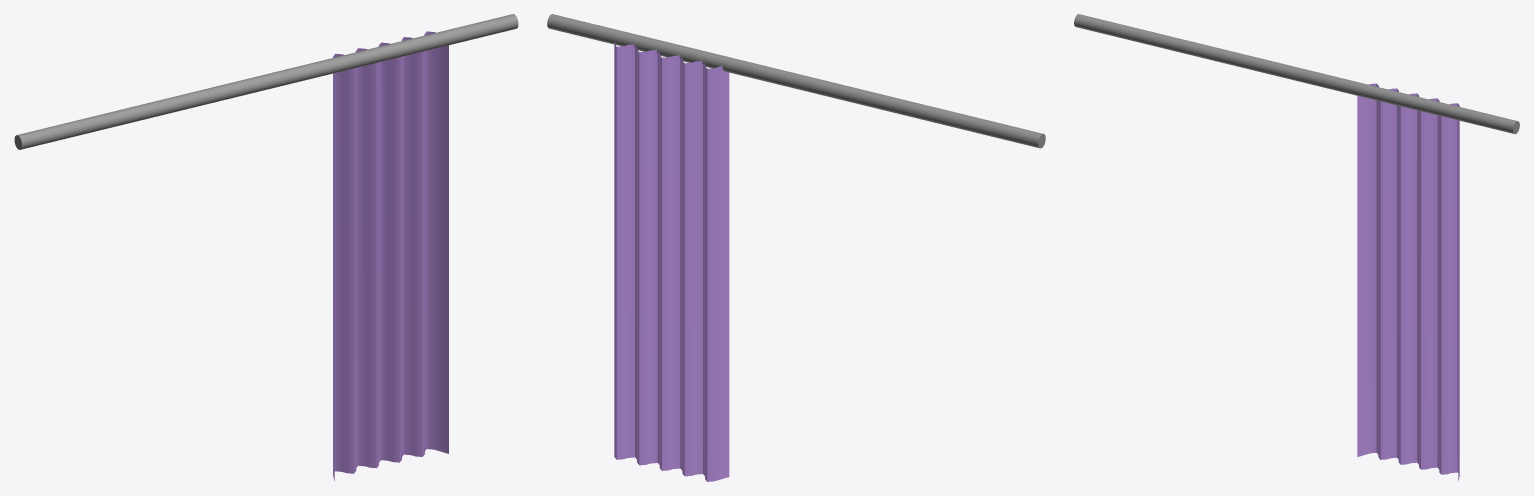
Rendered from curtain_opened.glb.
3 views of the same model, side by side, from view 1: azimuth 30°, elevation 25°; view 2: azimuth 150°, elevation 25°; view 3: azimuth 330°, elevation 25° (orthographic). The views are drawn at different scales.
Parts seen in each view (by area): view 1: Plane.005; view 2: Plane.005; view 3: Plane.005.
Part boxes in pixels (left/top/right/bottom): Plane.005: left=14, top=14, right=518, bottom=481; Plane.005: left=547, top=14, right=1045, bottom=481; Plane.005: left=1074, top=14, right=1519, bottom=481.
Size of the model in its own units: 3.42 by 2.79 by 0.1733.
2 materials, 2 textured.
